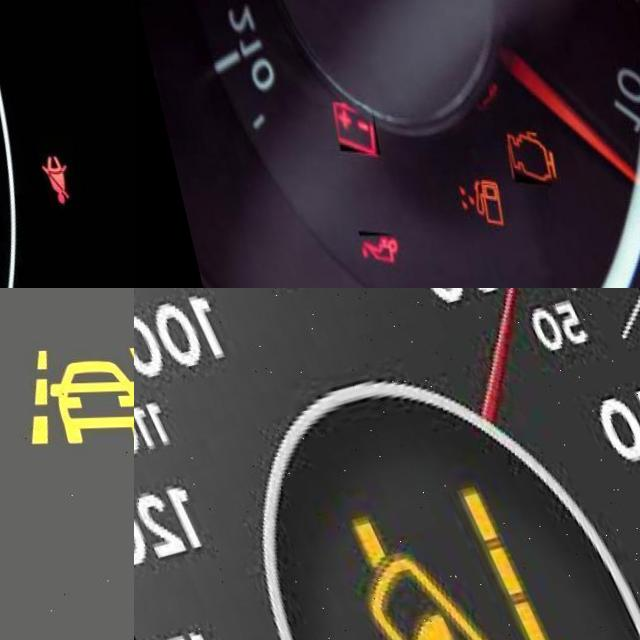Seat Belt: (23, 159, 52, 205)
